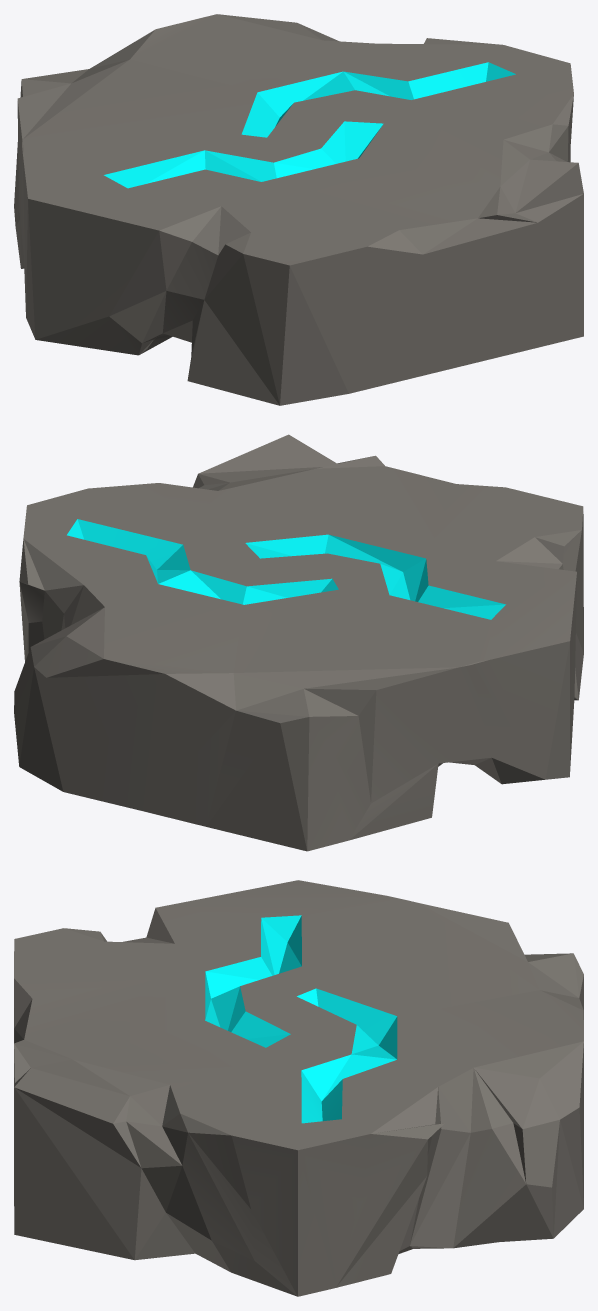
Rendered from SM_Env_Rounded_A_05.glb.
3 views of the same model, one above another, from view 1: azimuth 30°, elevation 25°; view 2: azimuth 150°, elevation 25°; view 3: azimuth 270°, elevation 25° (orthographic). The views are drawn at different scales.
Parts seen in each view (by area): view 1: SM_Env_Rounded_A_05; view 2: SM_Env_Rounded_A_05; view 3: SM_Env_Rounded_A_05.
Part boxes in pixels (x1,y1,x2,y2): SM_Env_Rounded_A_05: (14, 14, 583, 405); SM_Env_Rounded_A_05: (14, 434, 583, 851); SM_Env_Rounded_A_05: (14, 880, 583, 1296).
Size of the model in its own units: 2.73 by 0.6886 by 2.41.
1 material, 1 textured.
